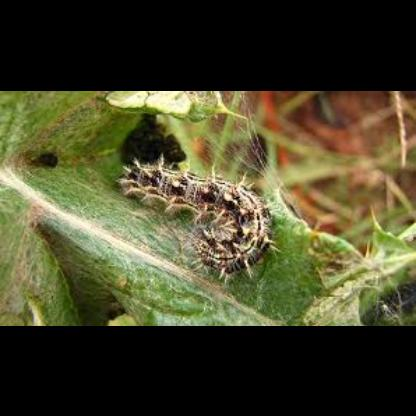oruga: (113, 152, 283, 283)
